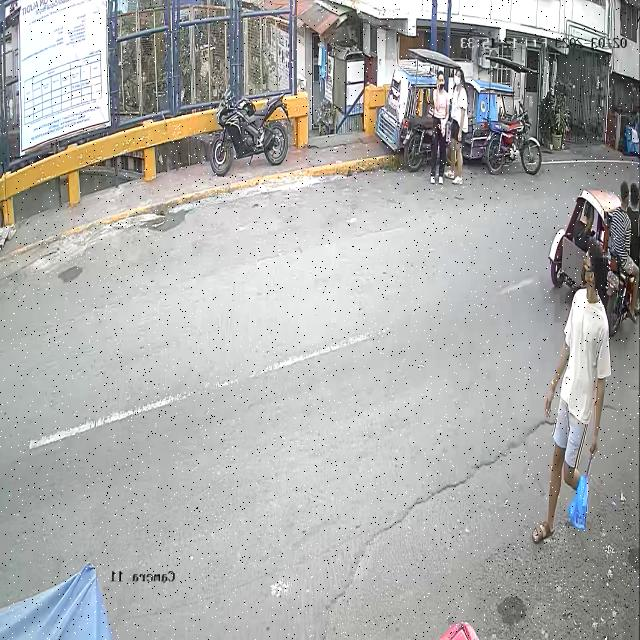garbage_dumping: (570, 470, 590, 538)
